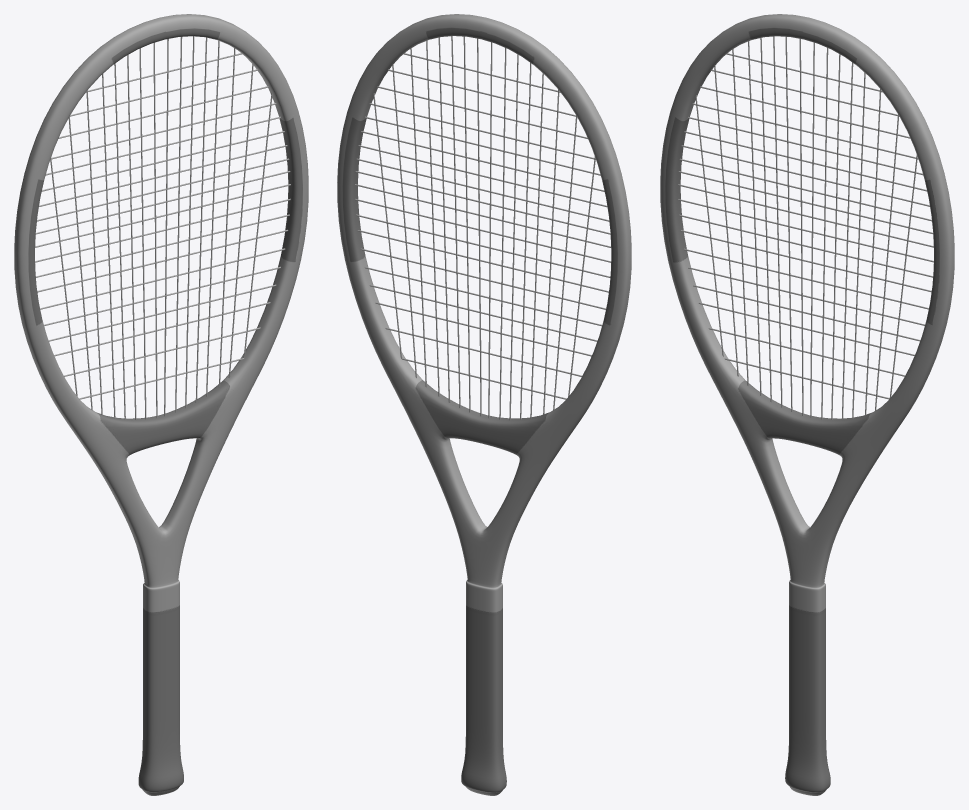
File: racket2.gltf
3 renders of one model, left to right at view 1: azimuth 30°, elevation 25°; view 2: azimuth 150°, elevation 25°; view 3: azimuth 330°, elevation 25°, orthographic.
Visible parts, largest first — view 1: 10540_Tennis_racket_V2_L3; view 2: 10540_Tennis_racket_V2_L3; view 3: 10540_Tennis_racket_V2_L3.
Boxes of the visible parts, x1=… form: 10540_Tennis_racket_V2_L3: x1=14, y1=14, x2=308, y2=795; 10540_Tennis_racket_V2_L3: x1=337, y1=14, x2=631, y2=795; 10540_Tennis_racket_V2_L3: x1=660, y1=14, x2=954, y2=795.
Size of the model in its own units: 5.7 by 14.47 by 0.528.
Materials: 1 (1 with a texture image).
